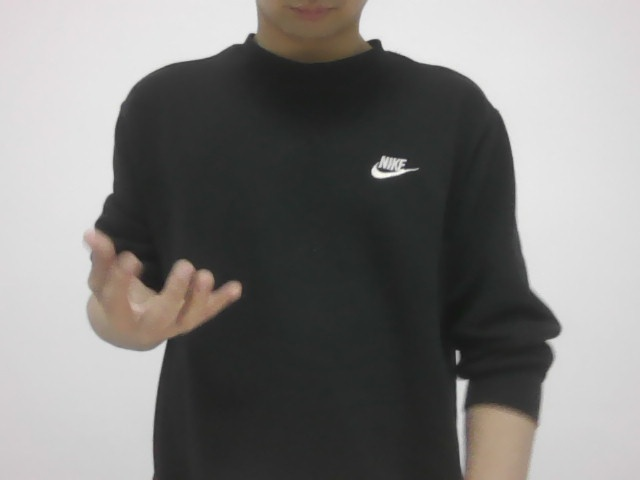flavor: (61, 221, 250, 353)
